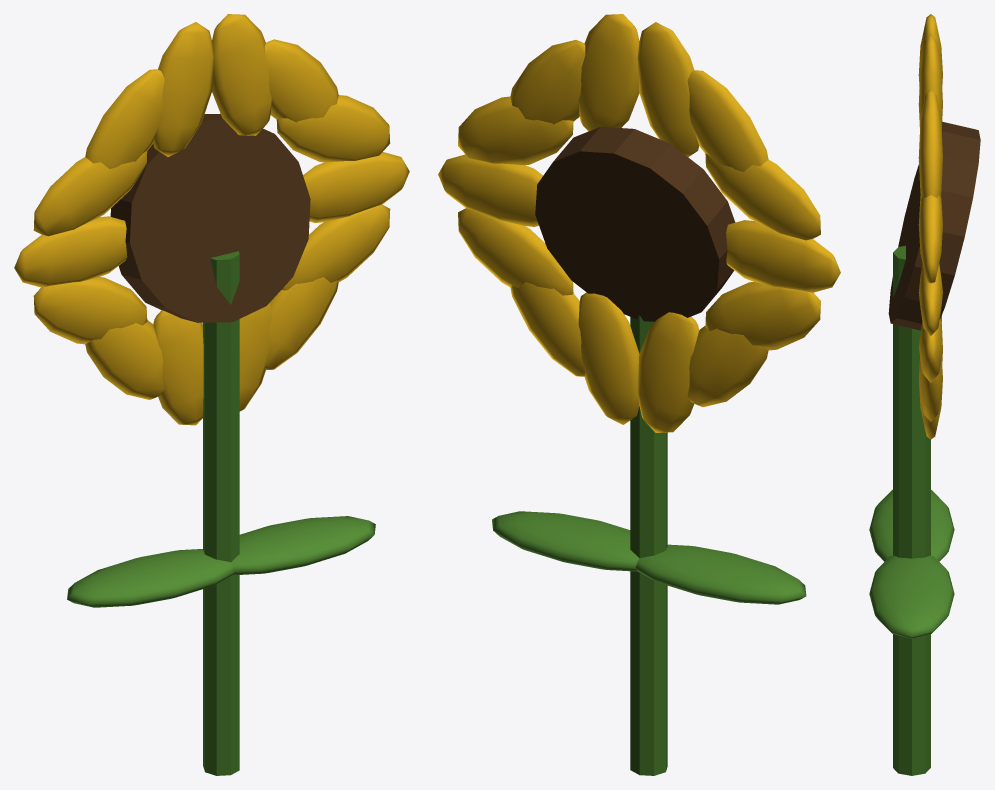
Rendered from deco_sunflower_lite.glb.
The picture shows the model from 3 angles, left to right: view 1: azimuth 30°, elevation 25°; view 2: azimuth 150°, elevation 25°; view 3: azimuth 270°, elevation 25°; orthographic projection.
Parts seen in each view (by area): view 1: Cylinder; view 2: Cylinder; view 3: Cylinder.
Part boxes in pixels (<box>): Cylinder: <box>14,14,409,775</box>; Cylinder: <box>438,14,840,775</box>; Cylinder: <box>869,14,980,775</box>.
Bounding box in the file's own units: 2.41 × 4.32 × 0.5877.
